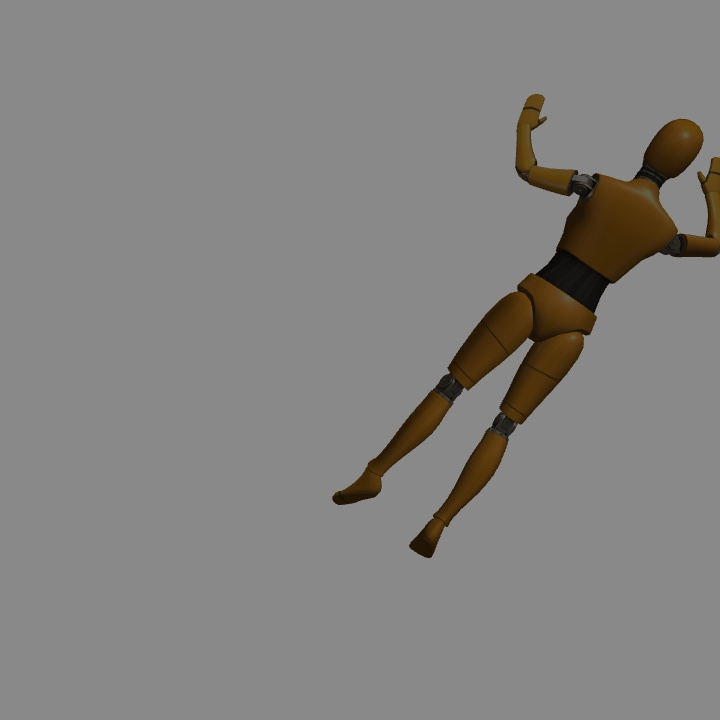victim: (340, 116, 719, 556)
